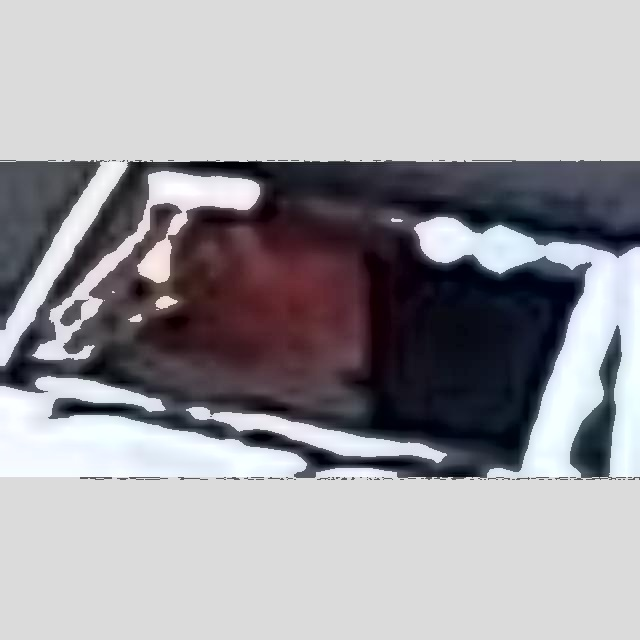tidak-pakai: (117, 207, 388, 396)
